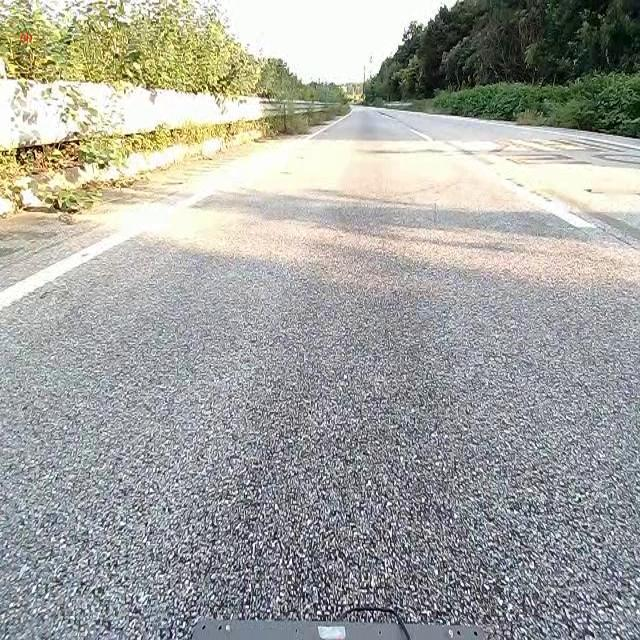Lane: (2, 212, 150, 308), (0, 225, 146, 311)
